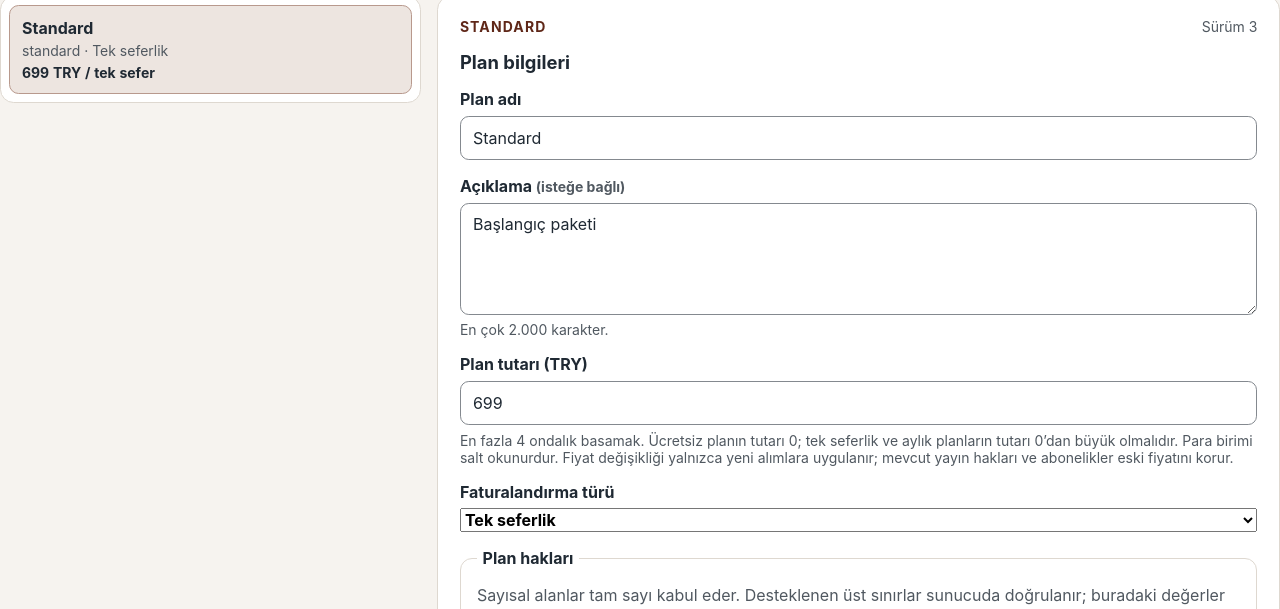
Admin plan management › preserves local edits after a stale revision and offers an explicit server refresh
Expected: the heading "Plan bilgileri" is shown, [460, 51, 570, 73]
Replace the text in the field labelled "Plan adı" with "Yerel düzenleme" at {"x": 859, "y": 138}, box [460, 116, 1257, 160]
(page scrolled)
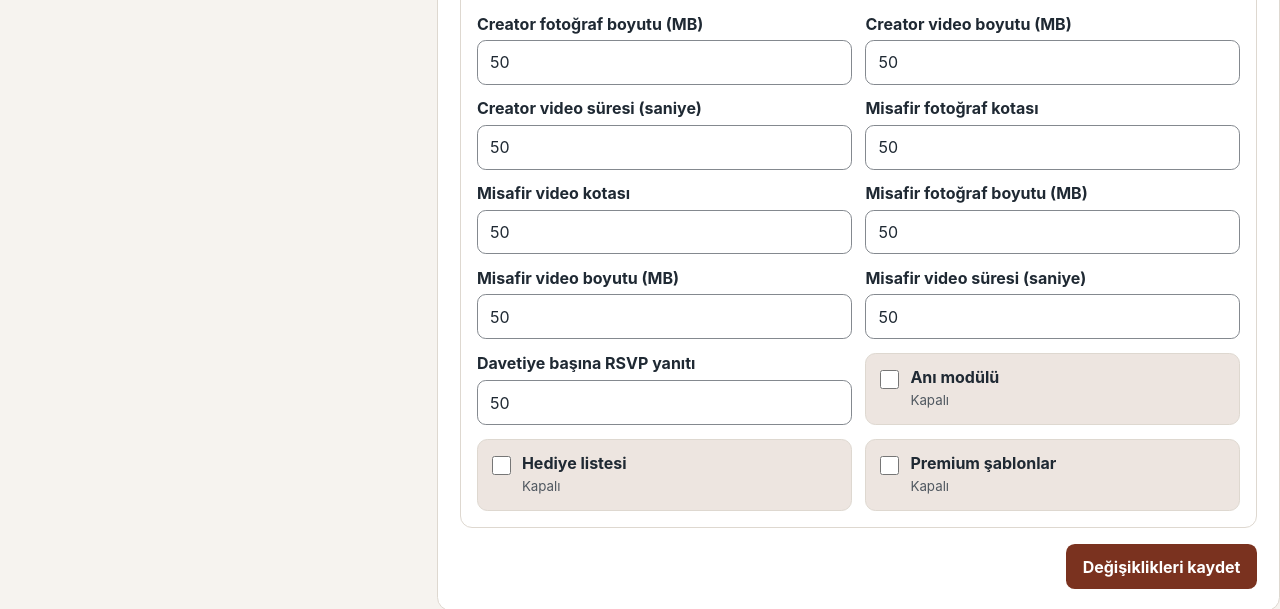
Click the button "Değişiklikleri kaydet".
click(1162, 567)  # box [1066, 544, 1257, 589]
(page scrolled)
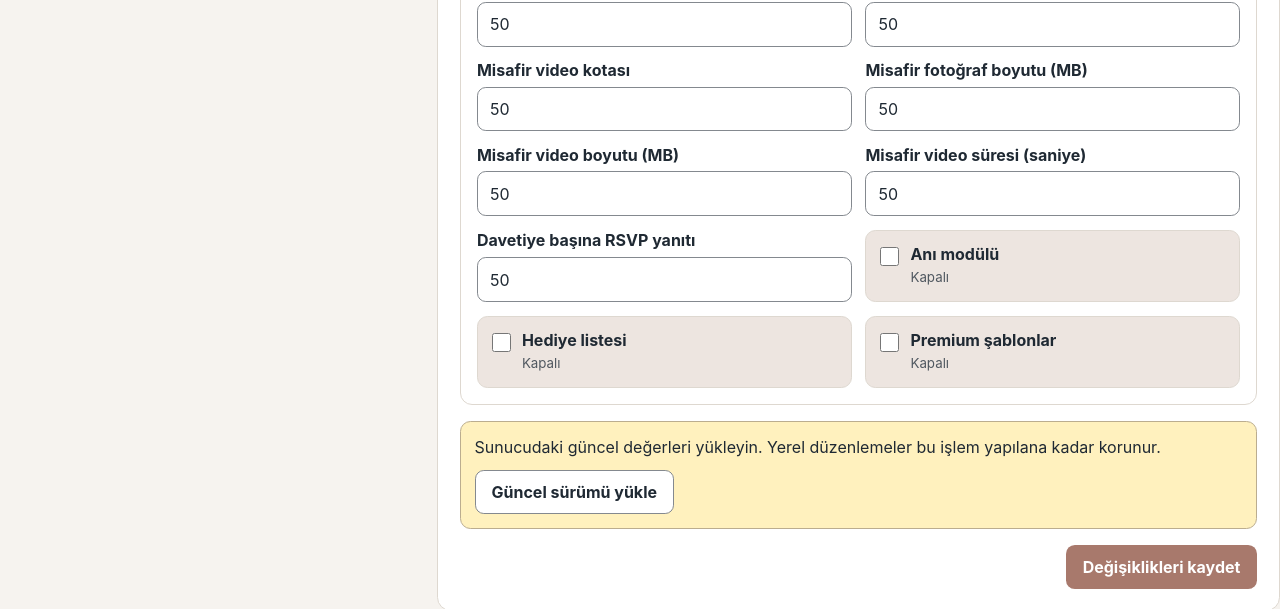
Now the button "Güncel sürümü yükle" is shown
Now the button "Değişiklikleri kaydet" is disabled, box [1066, 544, 1257, 589]
Click the button "Güncel sürümü yükle".
click(574, 492)  # box [474, 470, 674, 514]
(page scrolled)
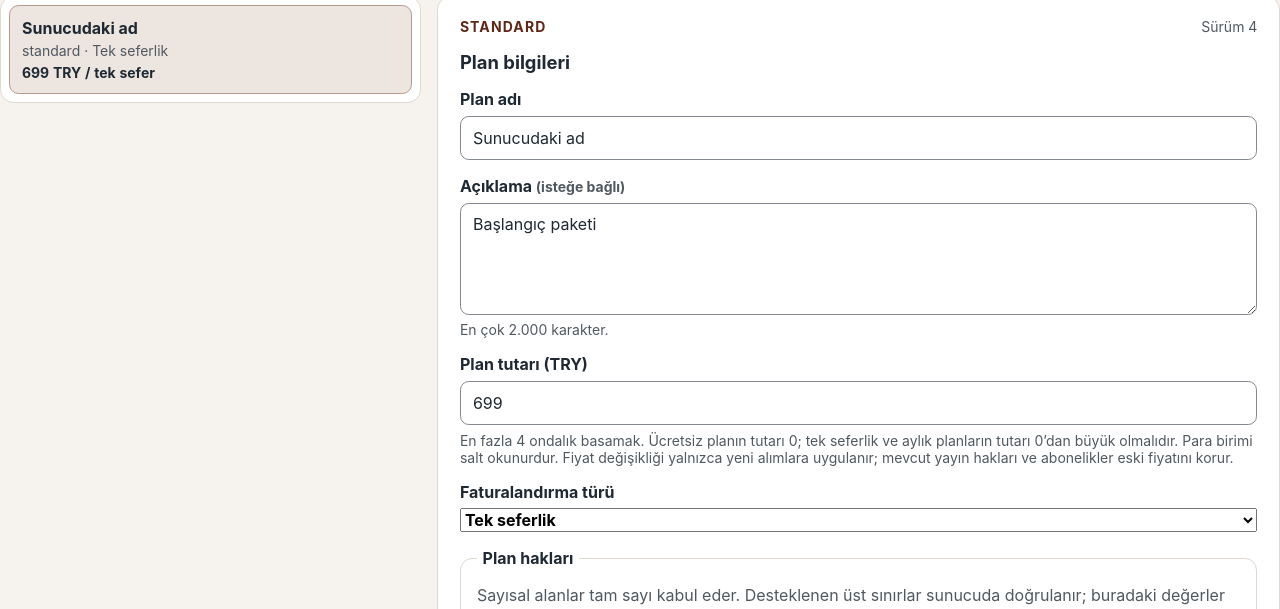
Now the field labelled "Plan adı" holds "Sunucudaki ad", box [460, 116, 1257, 160]
